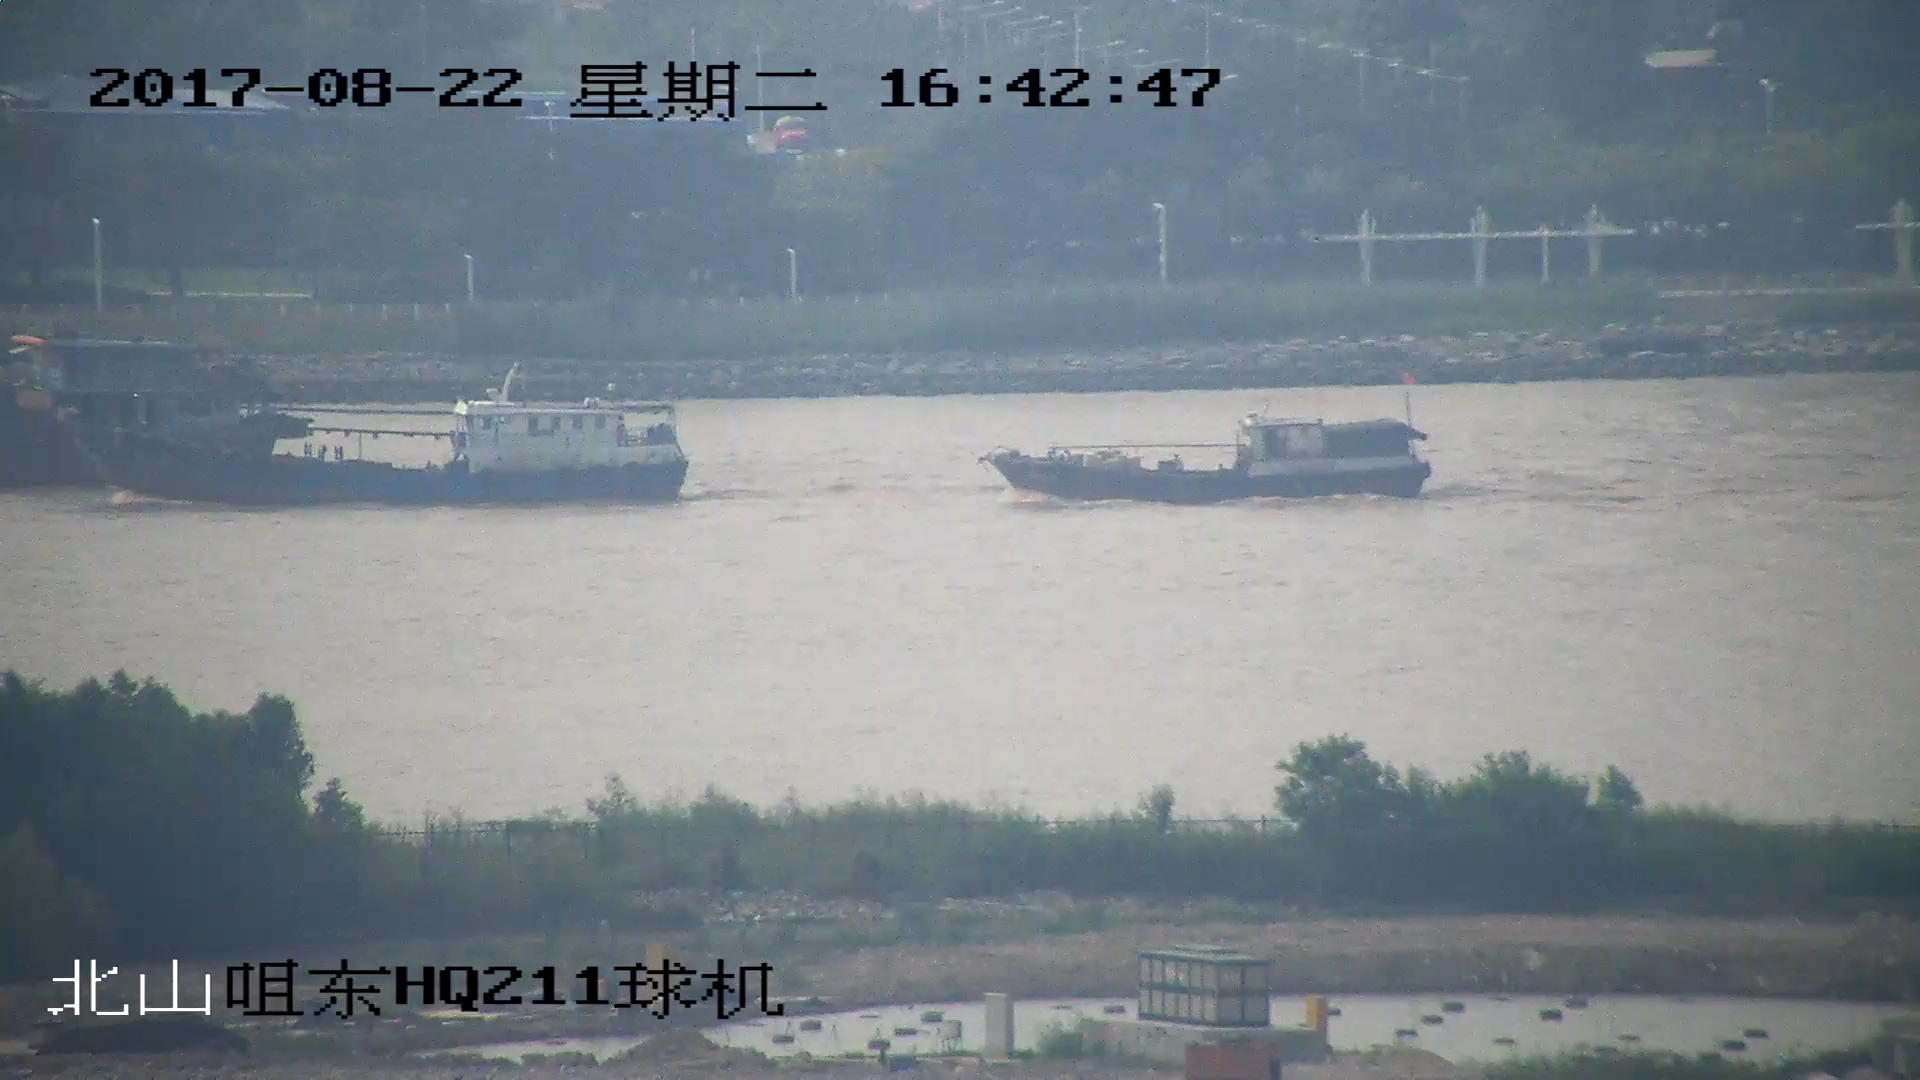bulk cargo carrier: (1, 334, 284, 476)
fishing boat: (84, 371, 684, 508), (982, 405, 1423, 507)
